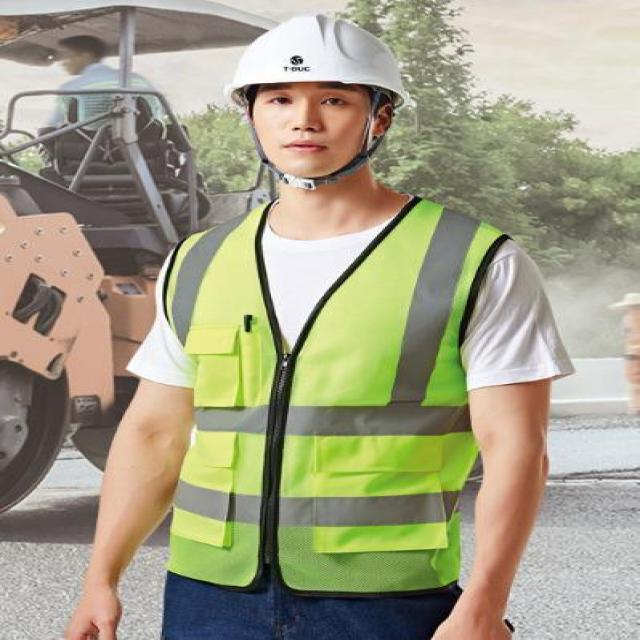helmet: (223, 13, 407, 99)
